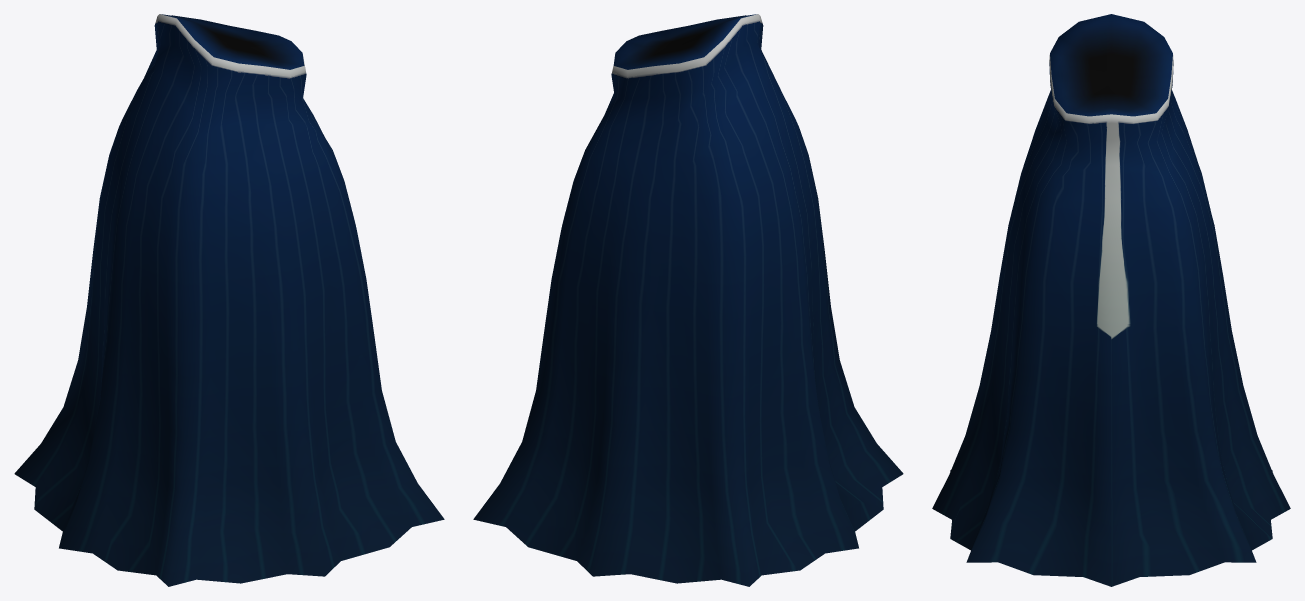
Rendered from SorrowEnemyBody.fbx.
3 views of the same model, side by side, from view 1: azimuth 30°, elevation 25°; view 2: azimuth 150°, elevation 25°; view 3: azimuth 270°, elevation 25° (orthographic). The views are drawn at different scales.
Parts seen in each view (by area): view 1: SorrowBody; view 2: SorrowBody; view 3: SorrowBody.
Part boxes in pixels (left/top/right/bottom): SorrowBody: left=14, top=14, right=444, bottom=586; SorrowBody: left=473, top=14, right=903, bottom=586; SorrowBody: left=932, top=14, right=1290, bottom=586.
Bounding box in the file's own units: 88.5 × 85.72 × 124.
